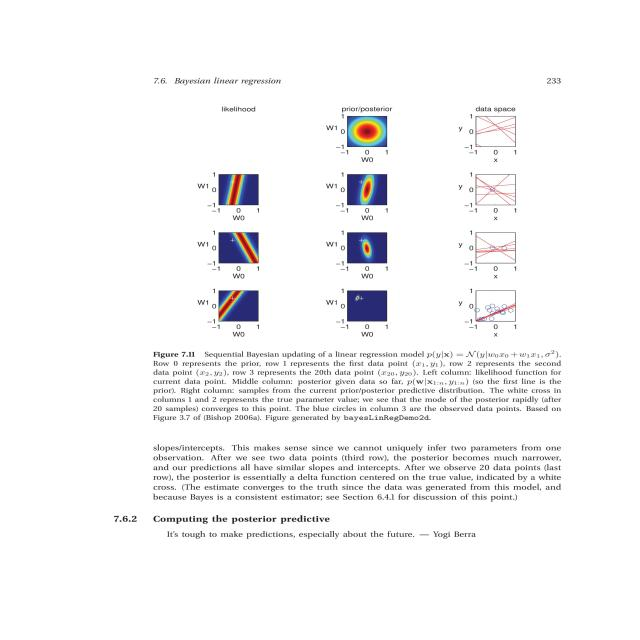diagram: (116, 92, 640, 430)
